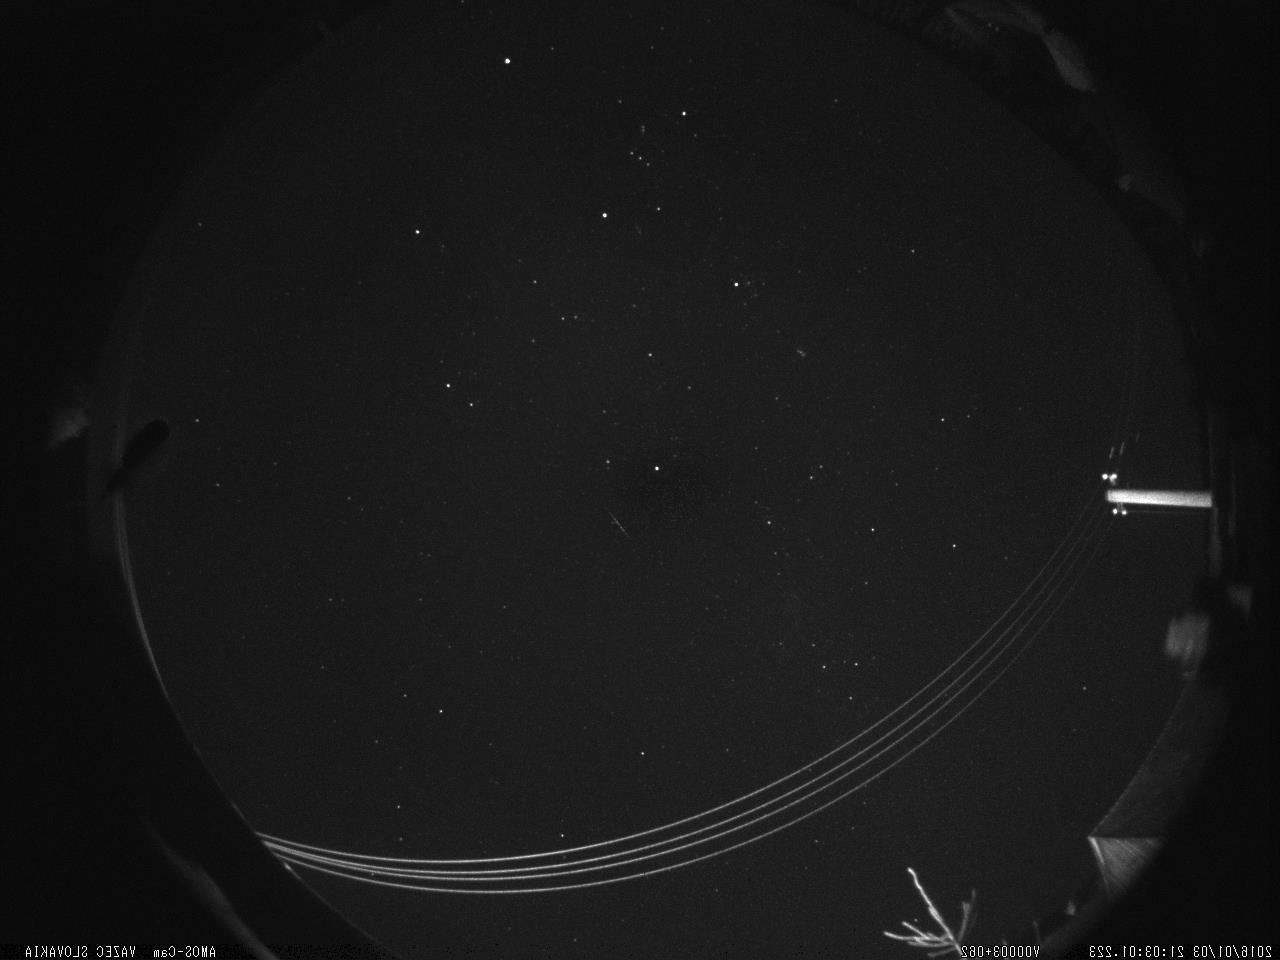meteor: (584, 496, 650, 554)
